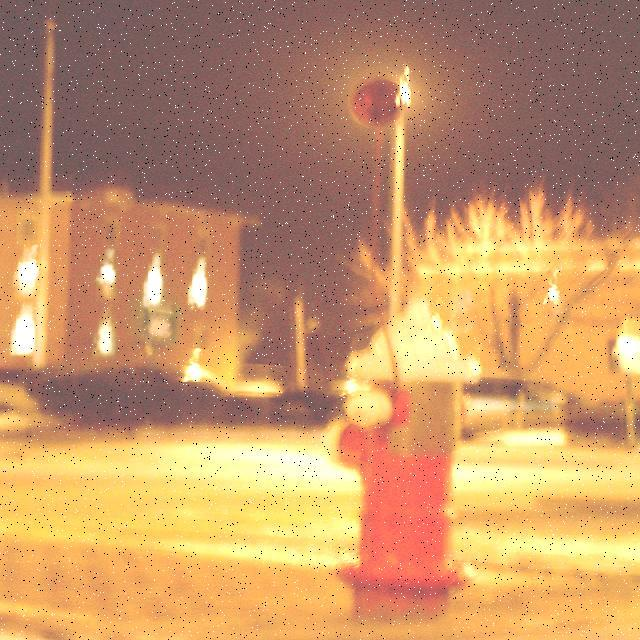fire_hydrant: (330, 299, 484, 621)
